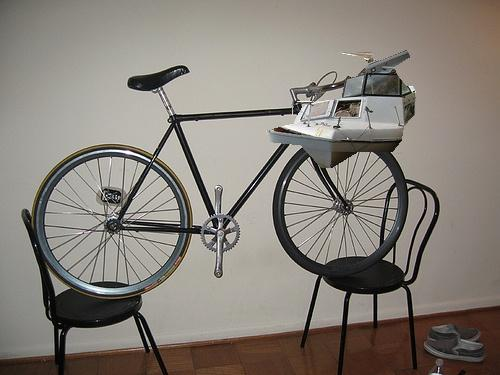tampered: (267, 51, 416, 168)
